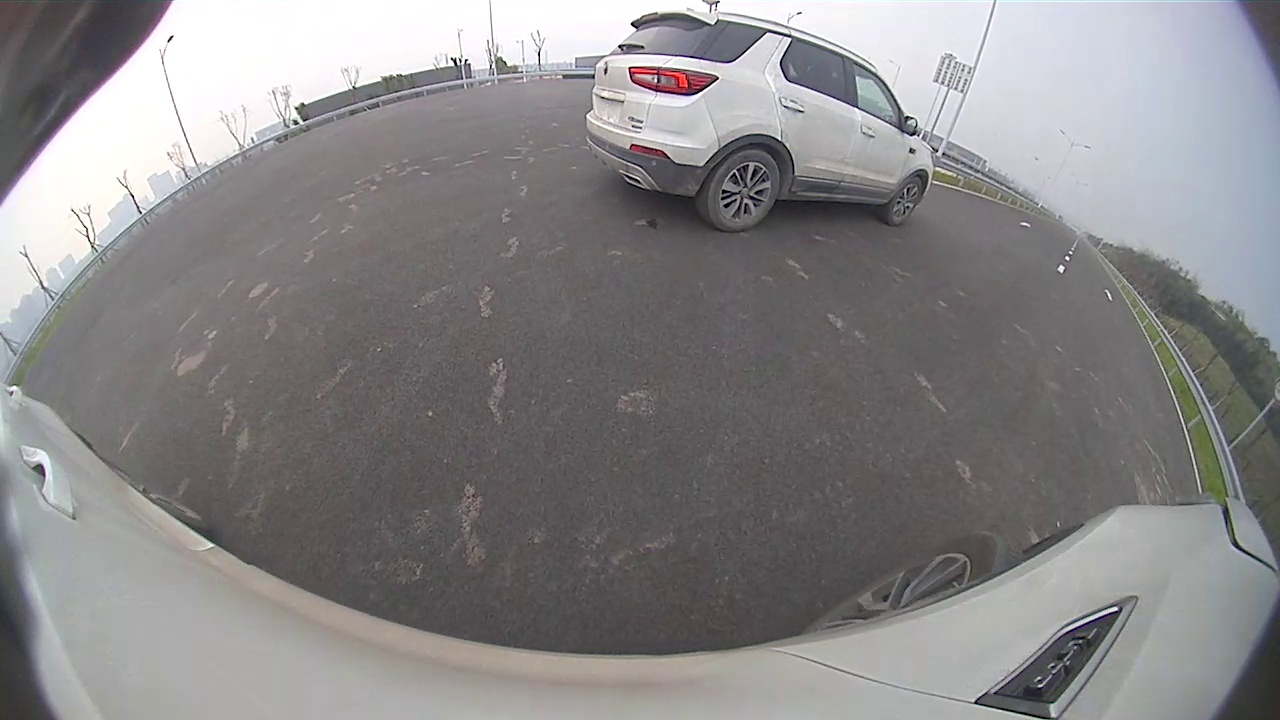car: (584, 7, 935, 231)
front: (887, 180, 924, 227)
rear: (707, 148, 781, 233)
